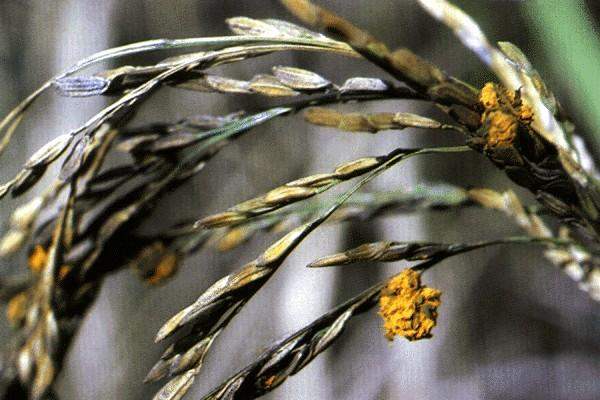False Smut: (461, 66, 556, 192), (366, 259, 456, 359)
